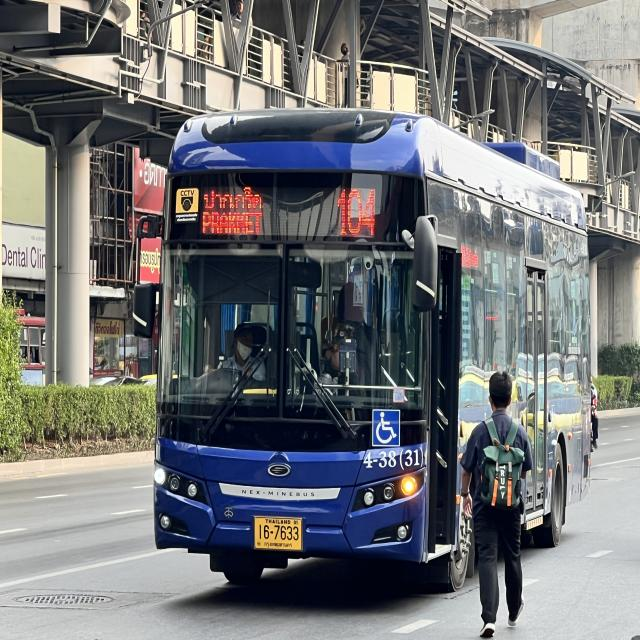Bus-Line-Number: (329, 180, 384, 243)
Destination-Sign-Normal: (200, 182, 271, 242)
TSB-Bus: (148, 97, 596, 593)
